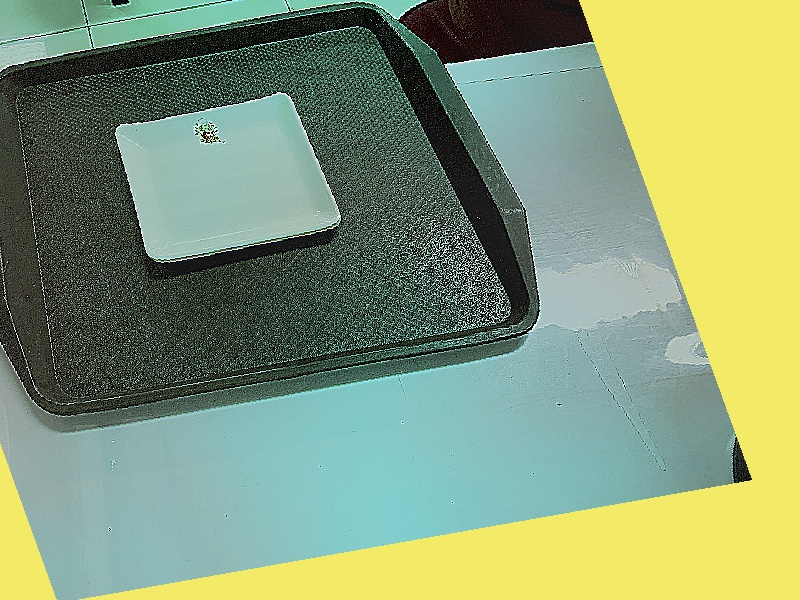dish4: (91, 81, 358, 274)
